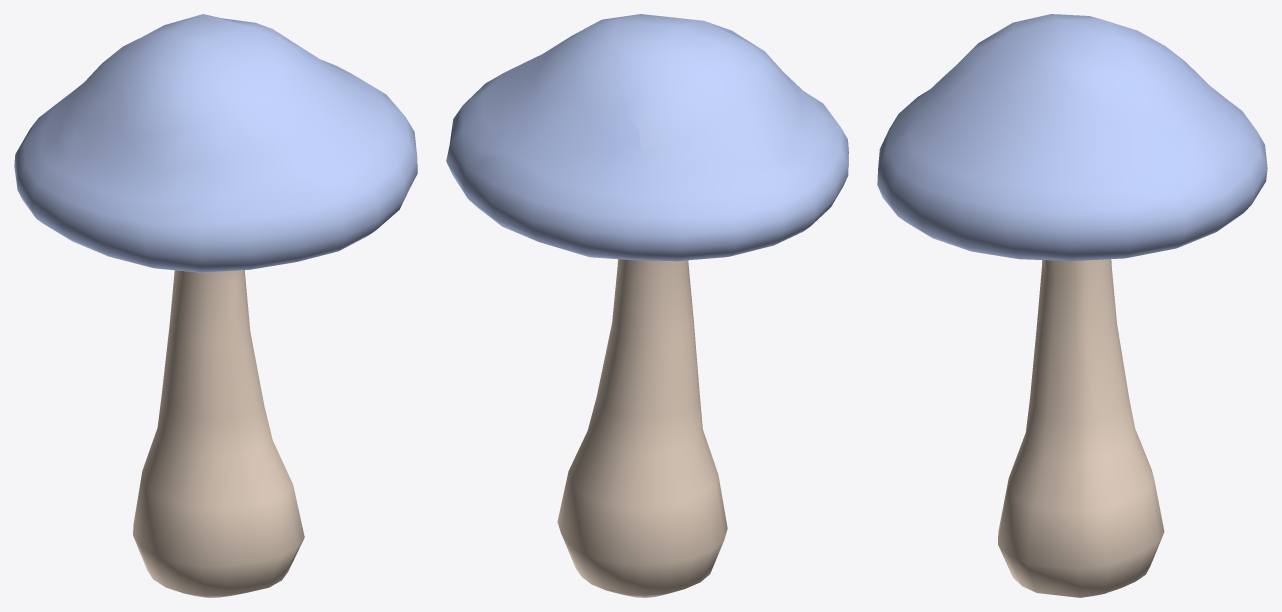
The model's file is mushroom 27.fbx.
3 views of the same model, side by side, from view 1: azimuth 30°, elevation 25°; view 2: azimuth 150°, elevation 25°; view 3: azimuth 270°, elevation 25° (orthographic).
Visible parts, largest first — view 1: Mushroom_0001_0027; view 2: Mushroom_0001_0027; view 3: Mushroom_0001_0027.
Part boxes in pixels (x1,y1,x2,y2): Mushroom_0001_0027: [14, 14, 417, 597]; Mushroom_0001_0027: [446, 14, 848, 597]; Mushroom_0001_0027: [877, 14, 1267, 597].
Size of the model in its own units: 14.77 by 22.45 by 14.36.
Materials: 1 (1 with a texture image).
